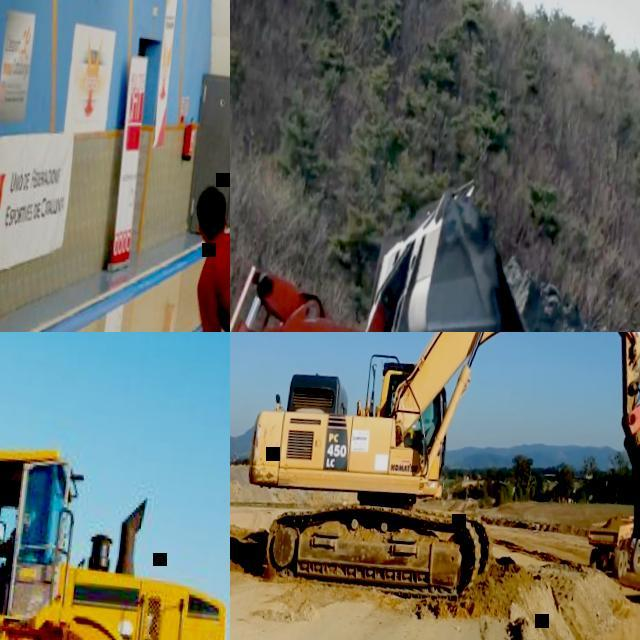machinery: (237, 332, 640, 625), (0, 336, 230, 640), (230, 147, 530, 332), (584, 504, 640, 580)
no_helmet: (195, 183, 227, 220)
no_vest: (198, 227, 230, 332), (3, 524, 18, 568)
person: (0, 503, 33, 616)
